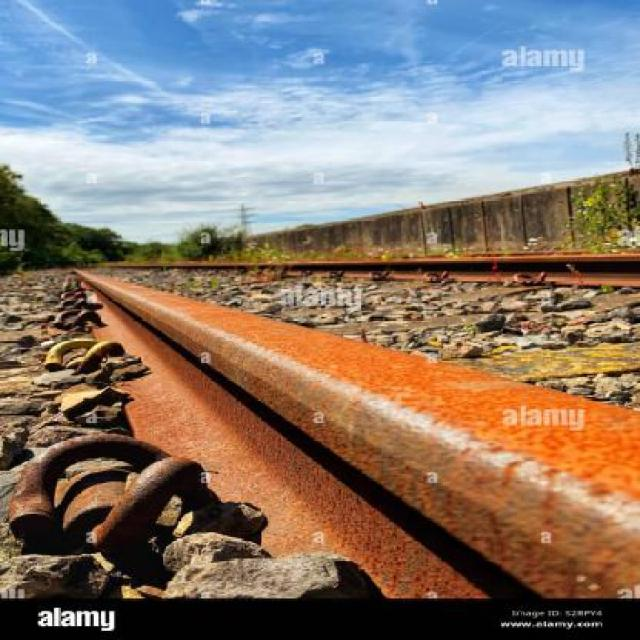defective: (26, 181, 640, 640)
